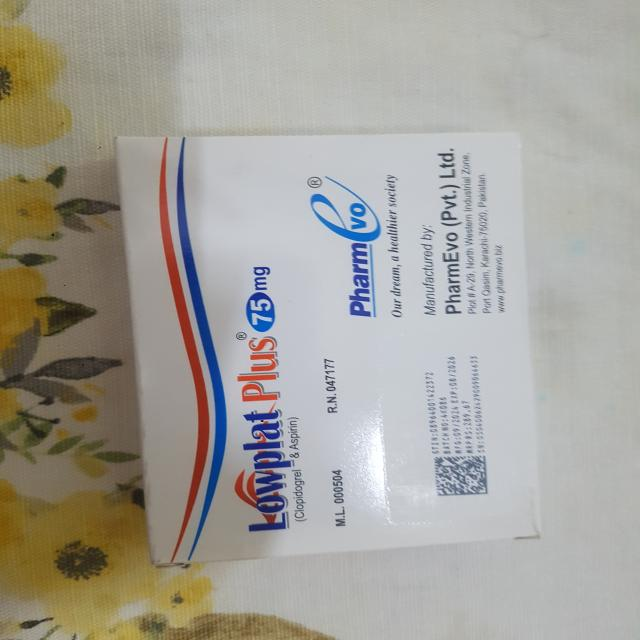electronic: (115, 132, 541, 566)
